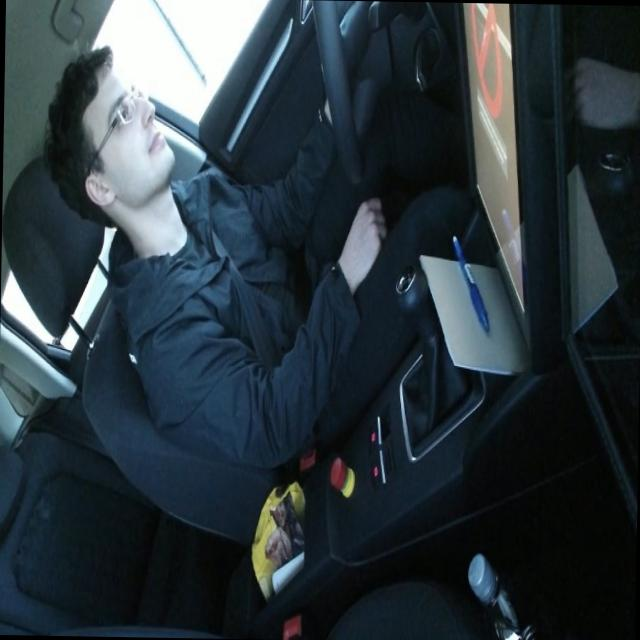pen: (449, 231, 491, 333)
